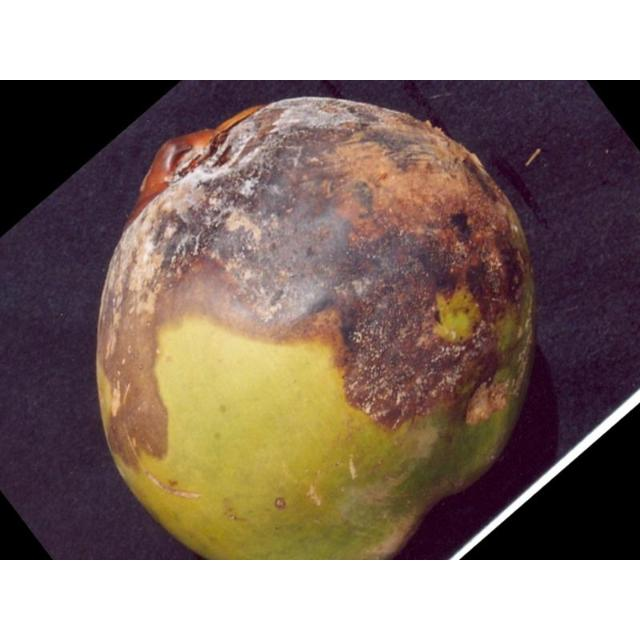damaged: (97, 98, 533, 559)
